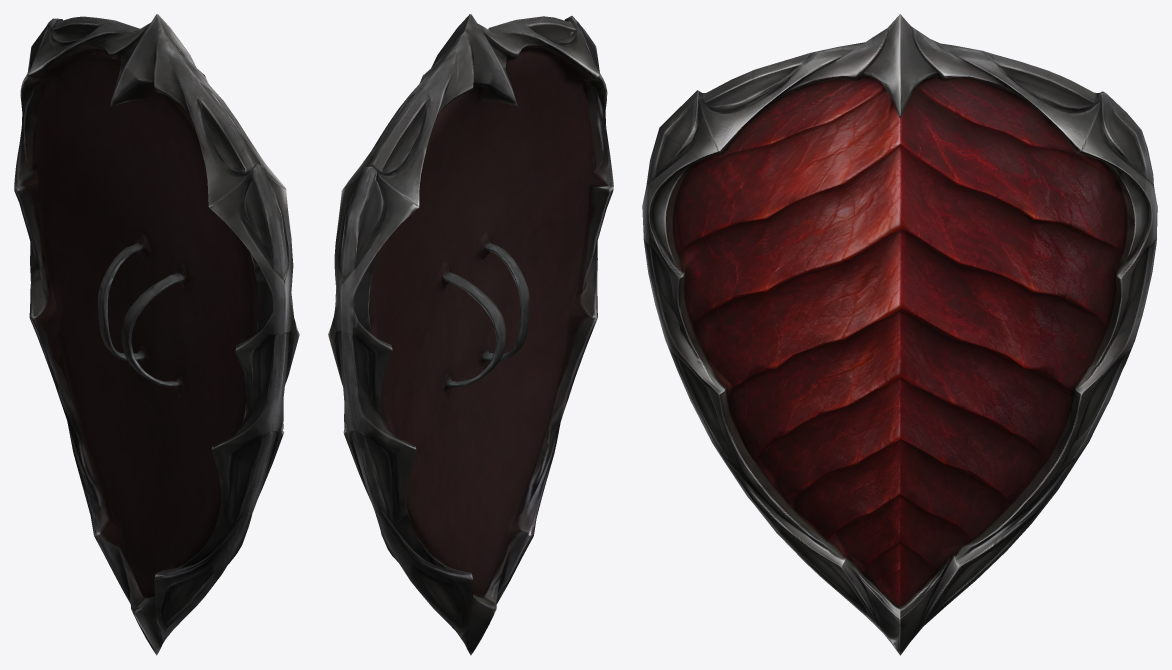
Rendered from s_scale.glb.
3 views of the same model, side by side, from view 1: azimuth 30°, elevation 25°; view 2: azimuth 150°, elevation 25°; view 3: azimuth 270°, elevation 25° (orthographic).
Visible parts, largest first — view 1: tripo_node_47440fb0-4e8c-4e46-8060-ad7781c44dd2; view 2: tripo_node_47440fb0-4e8c-4e46-8060-ad7781c44dd2; view 3: tripo_node_47440fb0-4e8c-4e46-8060-ad7781c44dd2.
Boxes of the visible parts, bbox=[...] form: tripo_node_47440fb0-4e8c-4e46-8060-ad7781c44dd2: bbox=[14, 14, 299, 655]; tripo_node_47440fb0-4e8c-4e46-8060-ad7781c44dd2: bbox=[328, 14, 613, 655]; tripo_node_47440fb0-4e8c-4e46-8060-ad7781c44dd2: bbox=[642, 14, 1157, 655].
Size of the model in its own units: 0.1866 by 1 by 0.7277.
Materials: 1 (1 with a texture image).
